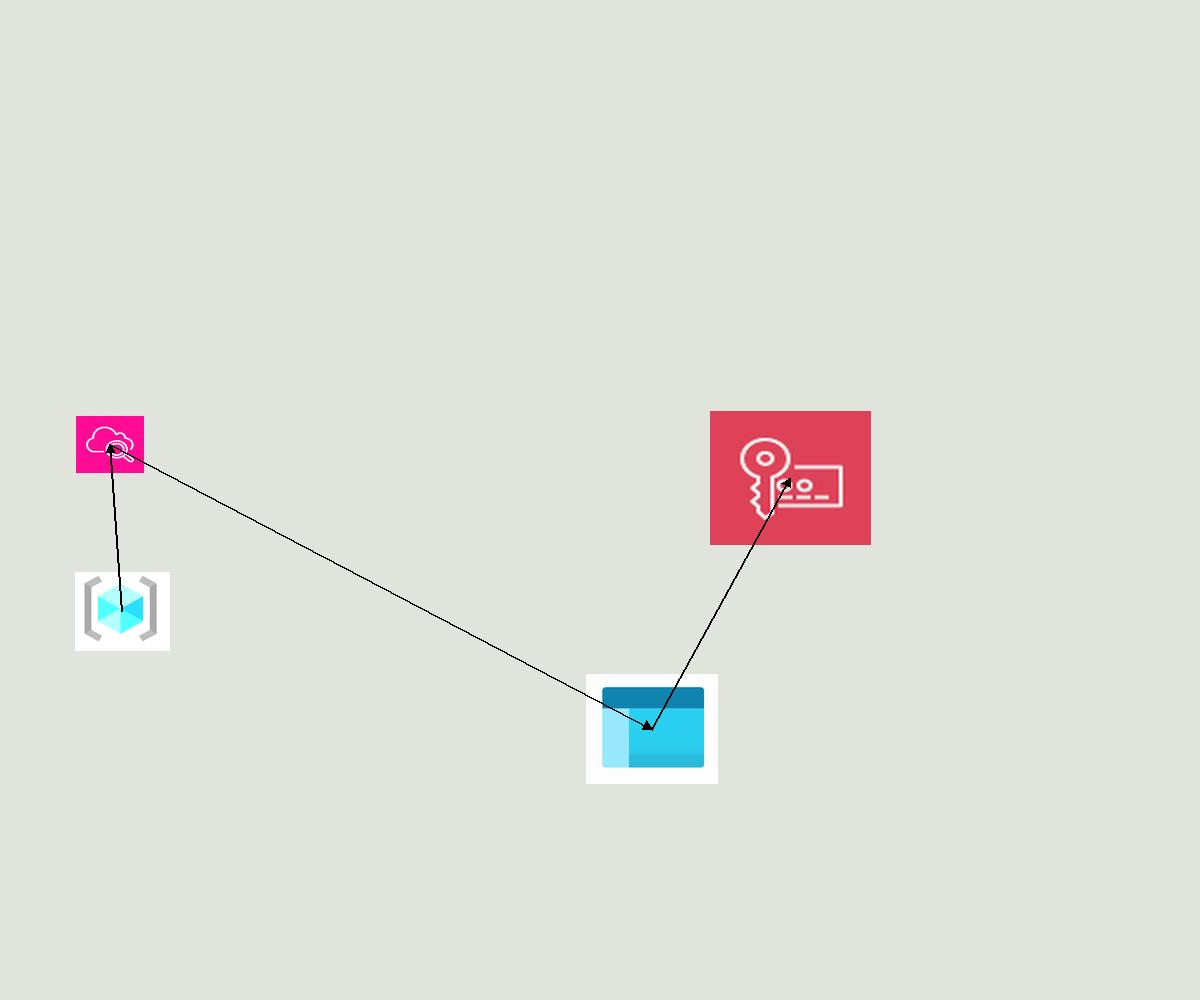AWS-CloudWatch: (76, 416, 144, 473)
AWS-Key-Management-Service: (710, 411, 871, 545)
Azure_management-portal: (586, 674, 718, 784)
Azure_resource_group: (75, 572, 170, 651)
